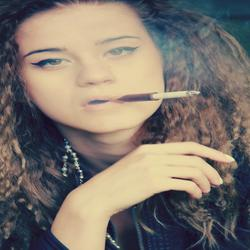smoking: (79, 89, 201, 111)
